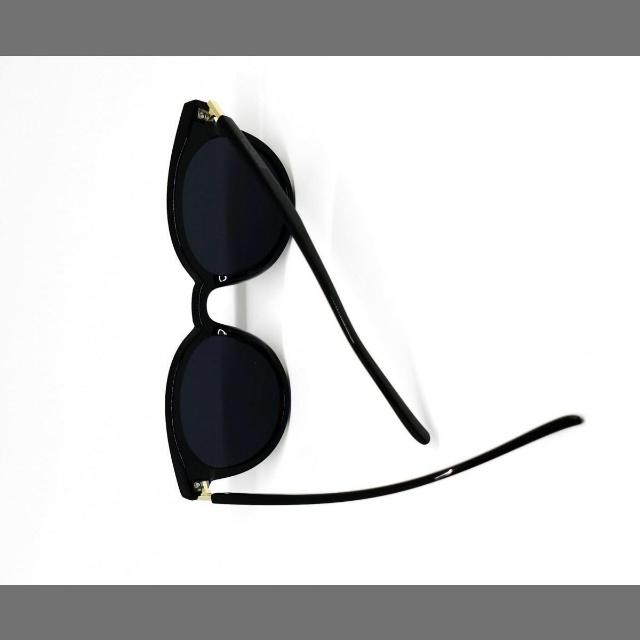Sunglasses: (146, 74, 586, 514)
